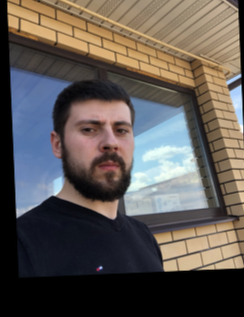without_mask: (62, 110, 137, 203)
